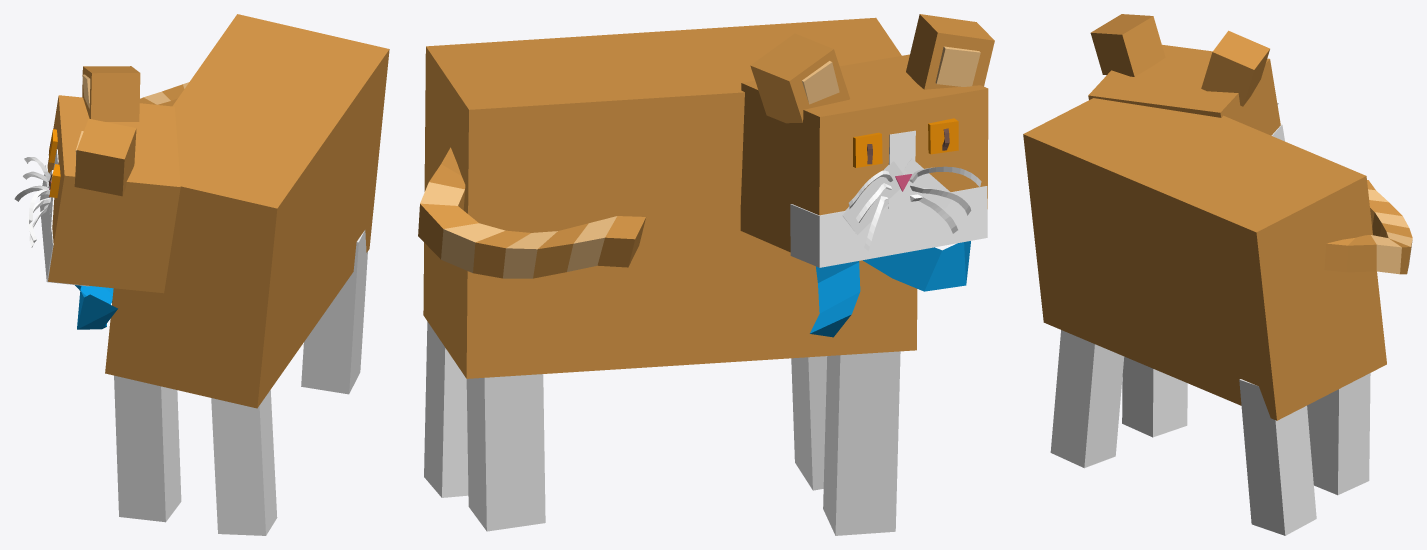
The picture shows the model from 3 angles, left to right: view 1: azimuth 30°, elevation 25°; view 2: azimuth 150°, elevation 25°; view 3: azimuth 270°, elevation 25°; orthographic projection. The views are drawn at different scales.
Parts seen in each view (by area): view 1: mesh_1996235904, mesh_517449670, mesh_1138662766, mesh_487636865, mesh_235750806, mesh_1745630274, mesh_467852597, group_1948509065, mesh_1155718321, group_265855566; view 2: mesh_1996235904, mesh_517449670, mesh_1138662766, group_265855566, mesh_413904313, mesh_1155718321, mesh_235750806, mesh_467852597, mesh_487636865, mesh_1745630274, group_1948509065, group_558557556 (+7 smaller); view 3: mesh_1996235904, mesh_235750806, mesh_487636865, mesh_517449670, mesh_413904313, group_265855566, mesh_1138662766, mesh_1745630274, mesh_467852597.
Part boxes in pixels (bbox=[...]): mesh_1996235904: bbox=[105, 14, 389, 408]; mesh_517449670: bbox=[47, 95, 180, 293]; mesh_1138662766: bbox=[114, 375, 181, 522]; mesh_487636865: bbox=[211, 390, 277, 535]; mesh_235750806: bbox=[301, 230, 367, 394]; mesh_1745630274: bbox=[74, 119, 136, 196]; mesh_467852597: bbox=[82, 66, 140, 121]; group_1948509065: bbox=[77, 285, 117, 329]; mesh_1155718321: bbox=[40, 165, 89, 286]; group_265855566: bbox=[139, 82, 188, 106]; mesh_1996235904: bbox=[423, 17, 917, 378]; mesh_517449670: bbox=[740, 54, 988, 252]; mesh_1138662766: bbox=[823, 351, 900, 535]; group_265855566: bbox=[418, 147, 645, 278]; mesh_413904313: bbox=[466, 374, 545, 531]; mesh_1155718321: bbox=[790, 186, 987, 267]; mesh_235750806: bbox=[424, 321, 468, 497]; mesh_467852597: bbox=[750, 33, 849, 123]; mesh_487636865: bbox=[791, 356, 827, 490]; mesh_1745630274: bbox=[906, 14, 994, 89]; group_1948509065: bbox=[863, 241, 970, 291]; group_558557556: bbox=[810, 261, 860, 337]; mesh_1996235904: bbox=[1023, 98, 1386, 420]; mesh_235750806: bbox=[1239, 379, 1316, 535]; mesh_487636865: bbox=[1050, 330, 1124, 468]; mesh_517449670: bbox=[1088, 44, 1280, 135]; mesh_413904313: bbox=[1307, 373, 1370, 495]; group_265855566: bbox=[1324, 180, 1412, 274]; mesh_1138662766: bbox=[1122, 356, 1187, 437]; mesh_1745630274: bbox=[1090, 14, 1165, 76]; mesh_467852597: bbox=[1201, 30, 1269, 106].
Size of the model in its own units: 75.45 by 74.64 by 67.47.
